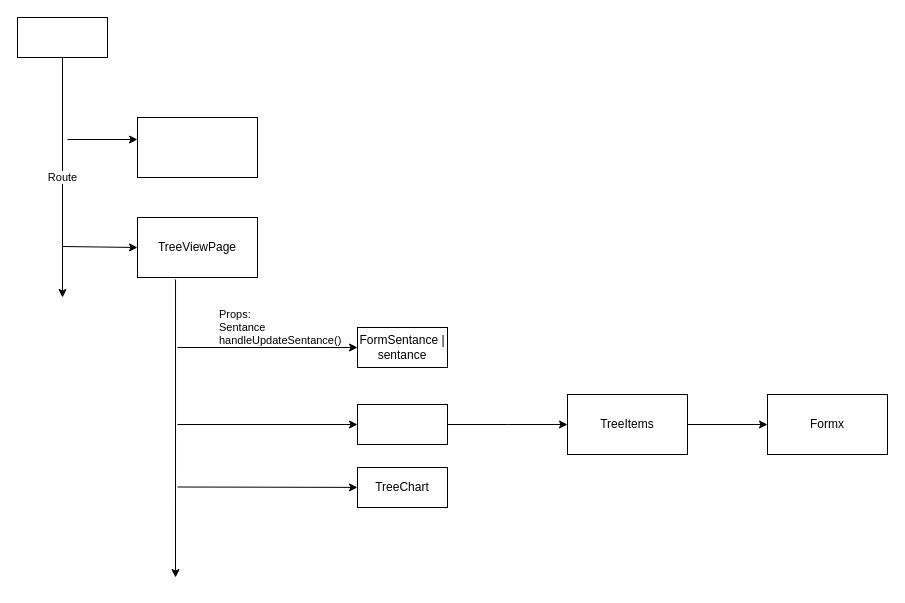
Some shapes in this 905 by 603 pixel diagram are drawn without their labels. Each missing label, with the centre of its shape:
"App" belongs at (62,37).
"CustomizedTree View" belongs at (402,424).
"SentancesTable" belongs at (197,147).
